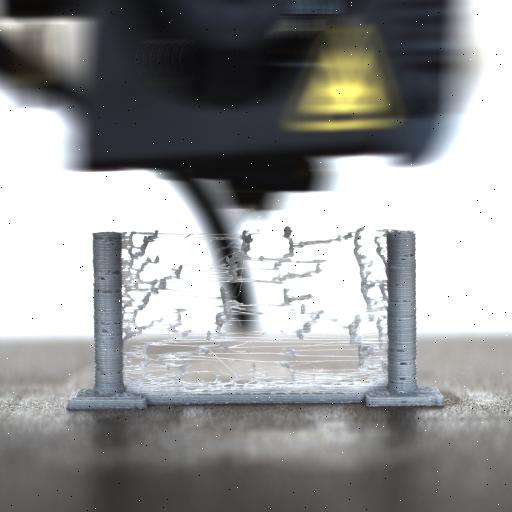stringing: (120, 228, 388, 392)
